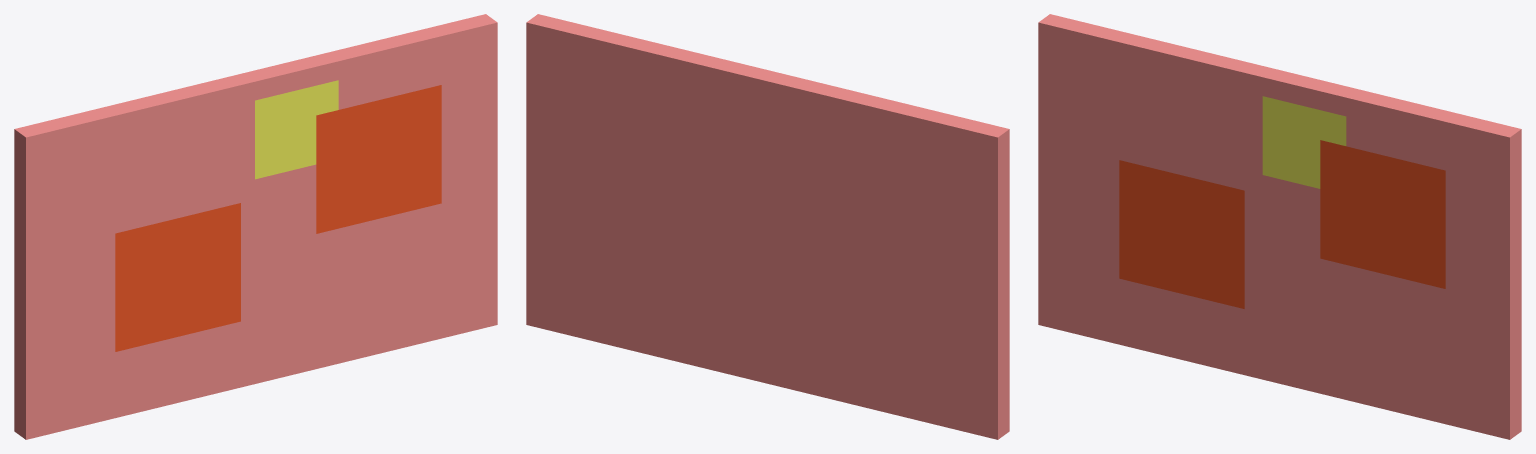
File: wallpapers.fbx
The picture shows the model from 3 angles, left to right: view 1: azimuth 30°, elevation 25°; view 2: azimuth 150°, elevation 25°; view 3: azimuth 330°, elevation 25°; orthographic projection.
Parts seen in each view (by area): view 1: Wallpapers; view 2: Wallpapers; view 3: Wallpapers.
Boxes of the visible parts, x1,y1,x2,y2 form: Wallpapers: [14, 14, 497, 439]; Wallpapers: [526, 14, 1009, 439]; Wallpapers: [1038, 14, 1521, 439].
Size of the model in its own units: 60.24 by 36.91 by 3.51.
